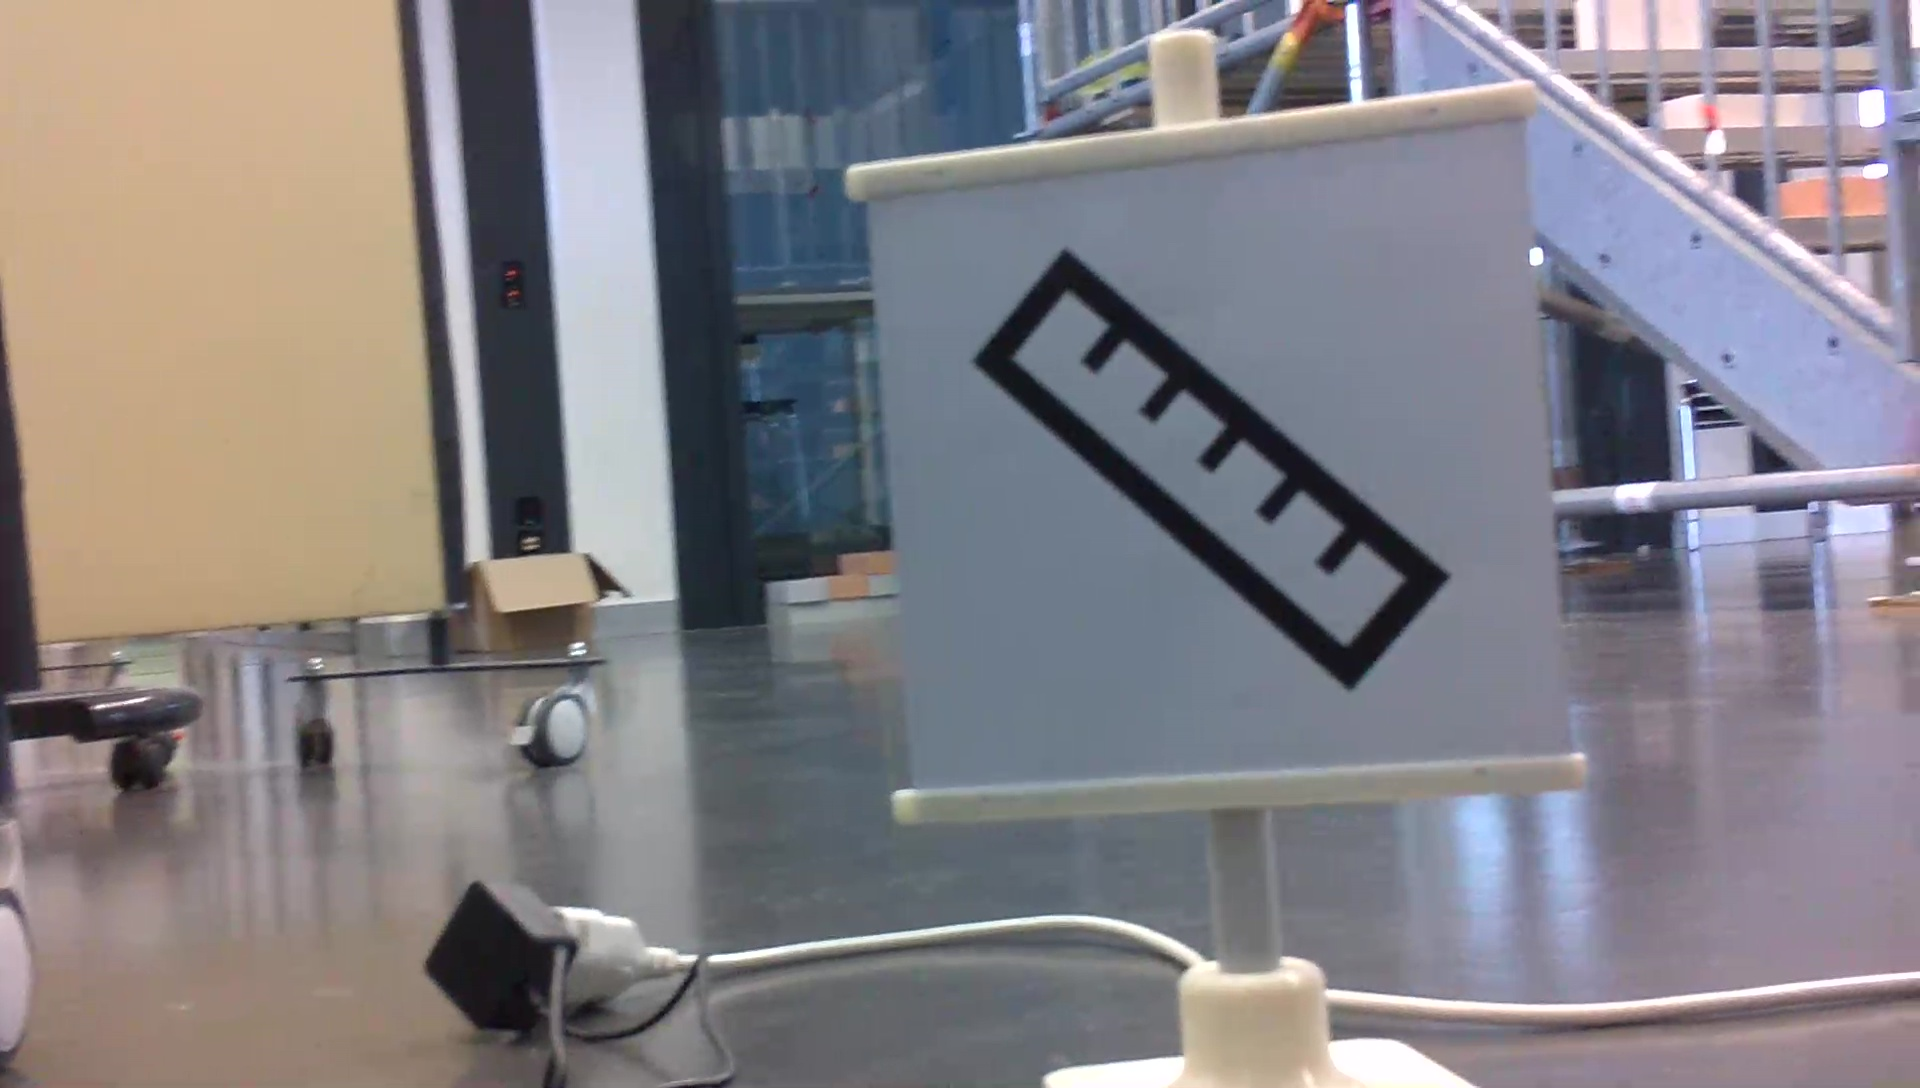ruler: (965, 223, 1480, 702)
